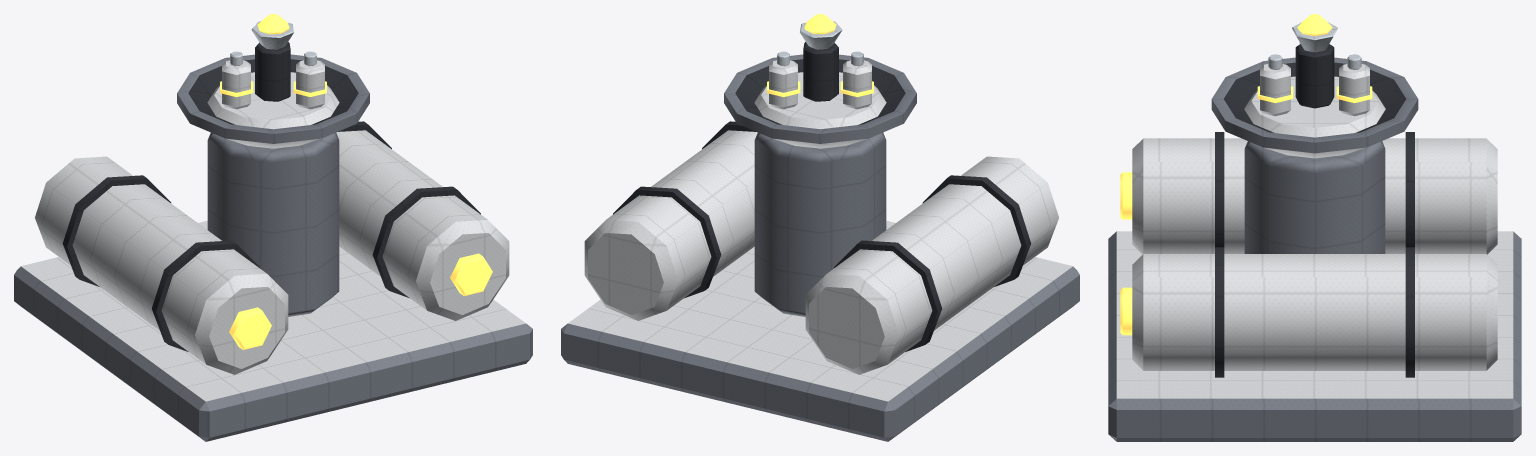
Rendered from R4X_BurnTrapDeployer_LOD1.glb.
3 views of the same model, side by side, from view 1: azimuth 30°, elevation 25°; view 2: azimuth 150°, elevation 25°; view 3: azimuth 270°, elevation 25° (orthographic). The views are drawn at different scales.
Visible parts, largest first — view 1: R4X_BurnTrapDeployer_LOD1; view 2: R4X_BurnTrapDeployer_LOD1; view 3: R4X_BurnTrapDeployer_LOD1.
Part boxes in pixels (x1,y1,x2,y2): R4X_BurnTrapDeployer_LOD1: (14,14,532,441); R4X_BurnTrapDeployer_LOD1: (561,14,1079,441); R4X_BurnTrapDeployer_LOD1: (1108,14,1521,441).
Size of the model in its own units: 0.52 by 0.476 by 0.52.
Materials: 5 (4 with a texture image).
